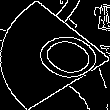O_SE: (9, 22, 101, 88)
